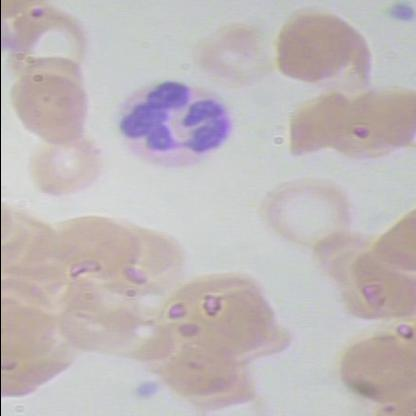Platelets: (378, 0, 415, 28), (133, 380, 162, 404)
RBC: (251, 166, 356, 254), (172, 259, 276, 347), (269, 2, 365, 96), (276, 86, 364, 168), (331, 327, 415, 410), (8, 52, 102, 124), (7, 79, 101, 150), (8, 5, 102, 76), (53, 212, 147, 283), (158, 335, 252, 406), (18, 132, 112, 202), (58, 288, 152, 358), (194, 27, 282, 93), (346, 246, 415, 330), (346, 72, 415, 156), (0, 336, 70, 398)
WBC: (112, 70, 238, 184)
